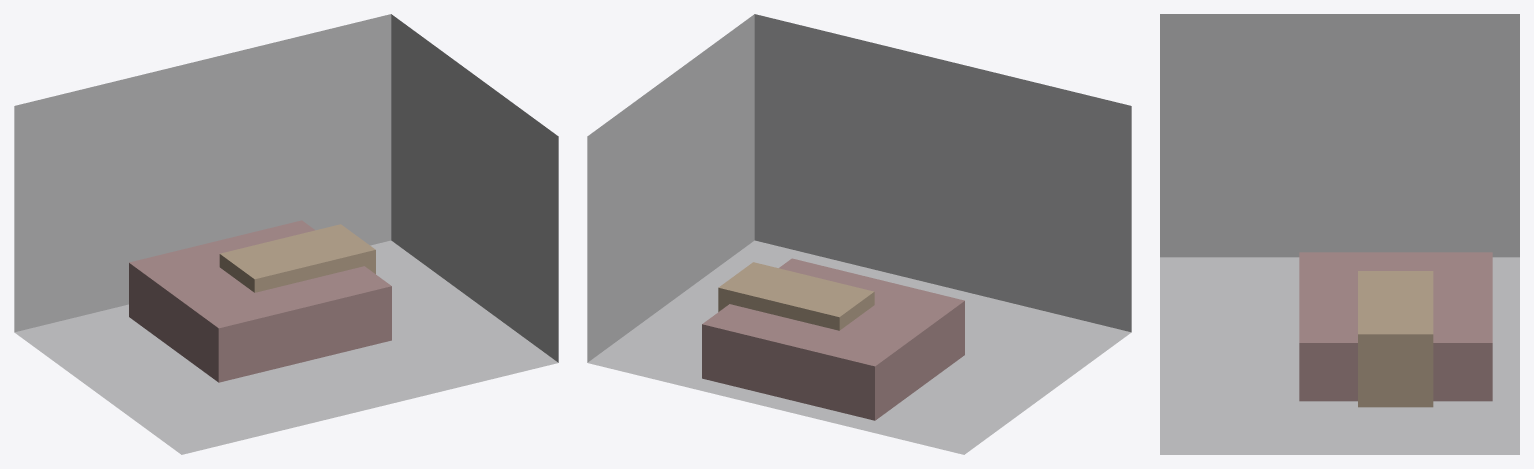
The model's file is optimised_layout.glb.
3 views of the same model, side by side, from view 1: azimuth 30°, elevation 25°; view 2: azimuth 150°, elevation 25°; view 3: azimuth 270°, elevation 25° (orthographic). The views are drawn at different scales.
Parts seen in each view (by area): view 1: room, bed, desk; view 2: room, bed, desk; view 3: room, bed, desk.
Part boxes in pixels (<box>): room: <box>14,14,558,454</box>; bed: <box>129,220,391,382</box>; desk: <box>219,224,375,292</box>; room: <box>587,14,1131,454</box>; bed: <box>702,258,964,420</box>; desk: <box>718,262,874,330</box>; room: <box>1160,14,1519,454</box>; bed: <box>1299,252,1492,401</box>; desk: <box>1358,271,1433,407</box>.
Size of the model in its own units: 4.36 by 2.5 by 3.35.
